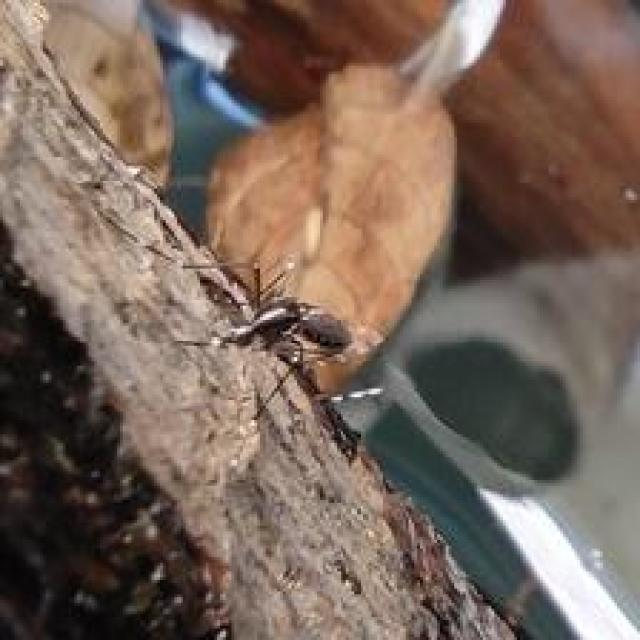Aedes albopictus: (173, 245, 364, 464)
